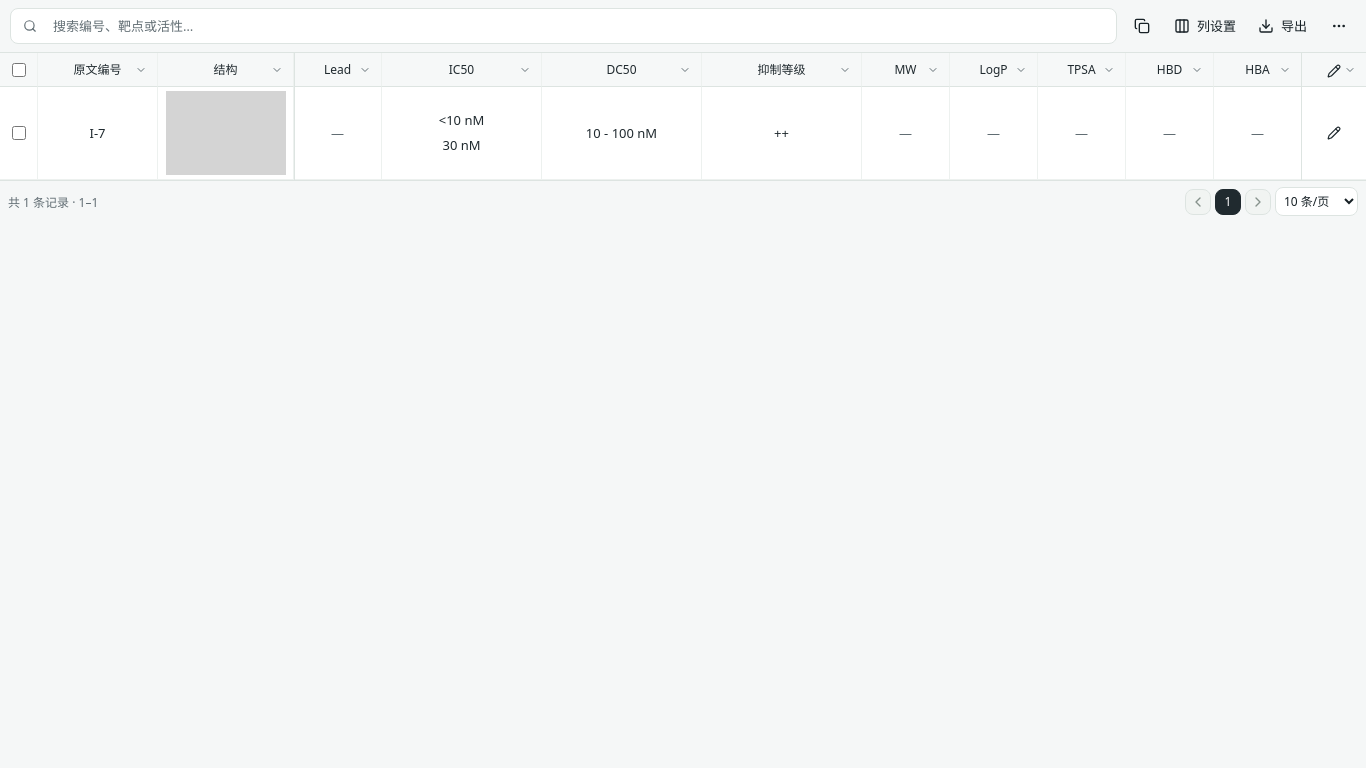
it: dense evidence-led result workspace › keeps a needs_review annotation pending despite a valid recognition result
Check: the text "待复核" is not shown
Click the button named "列表选项". click: (1339, 26)
box: [1322, 9, 1356, 43]
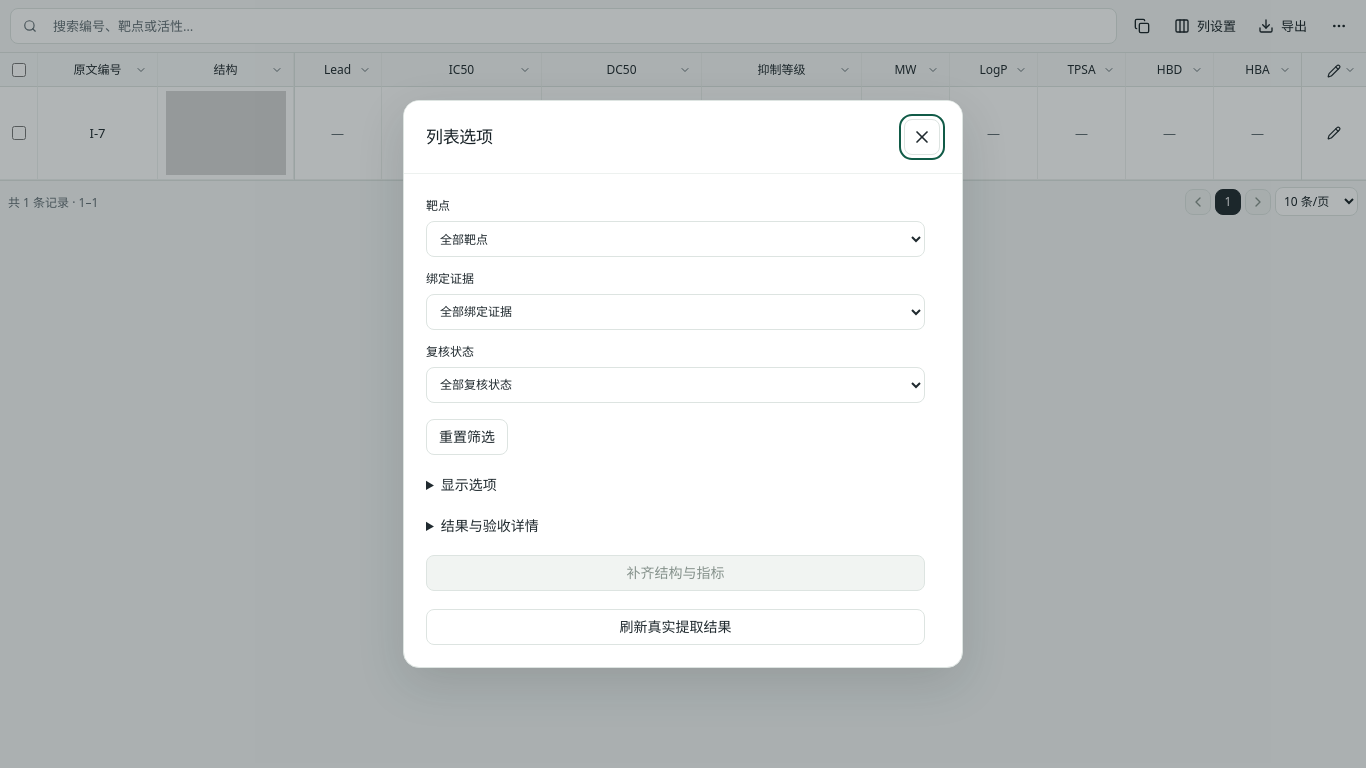
Click the heading "结果与验收详情". click: (490, 525)
box: [441, 516, 539, 535]
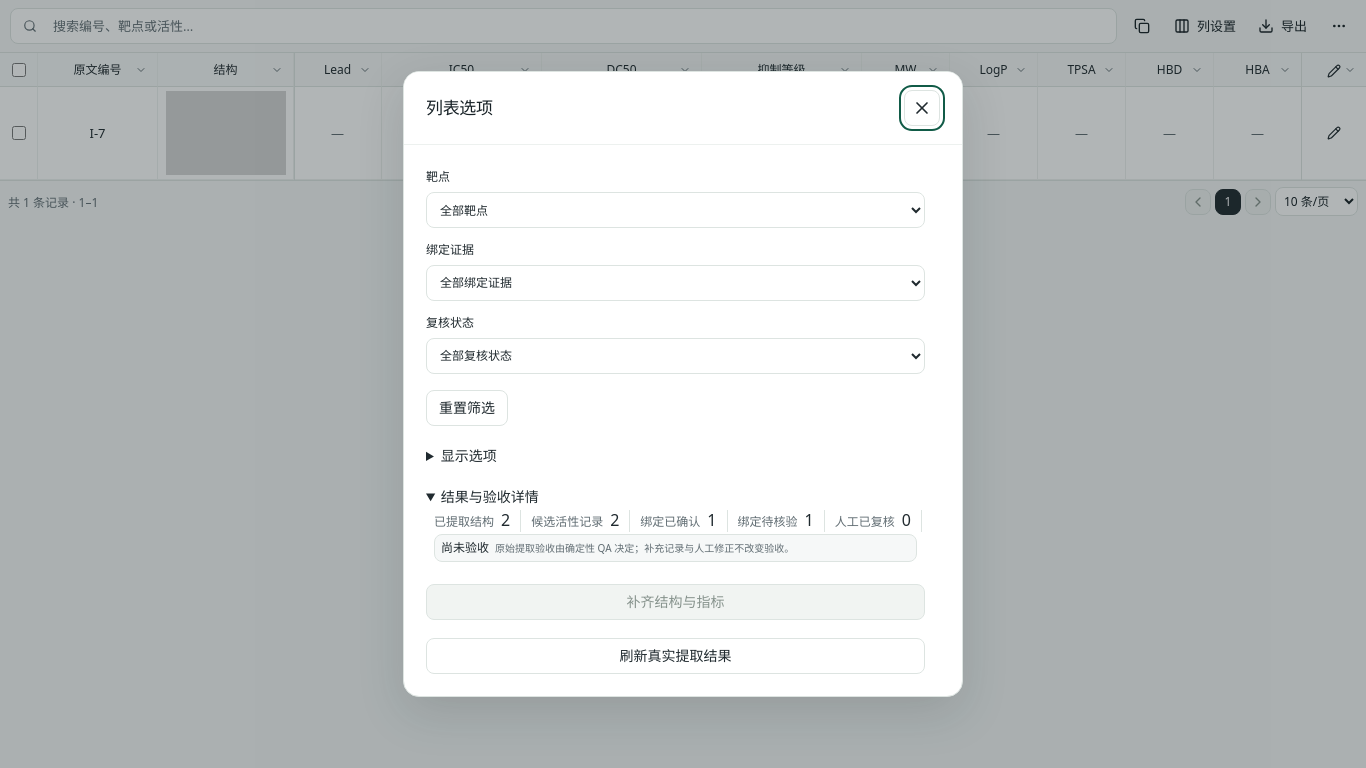
Check: the text "0" is shown, box [902, 510, 911, 530]
